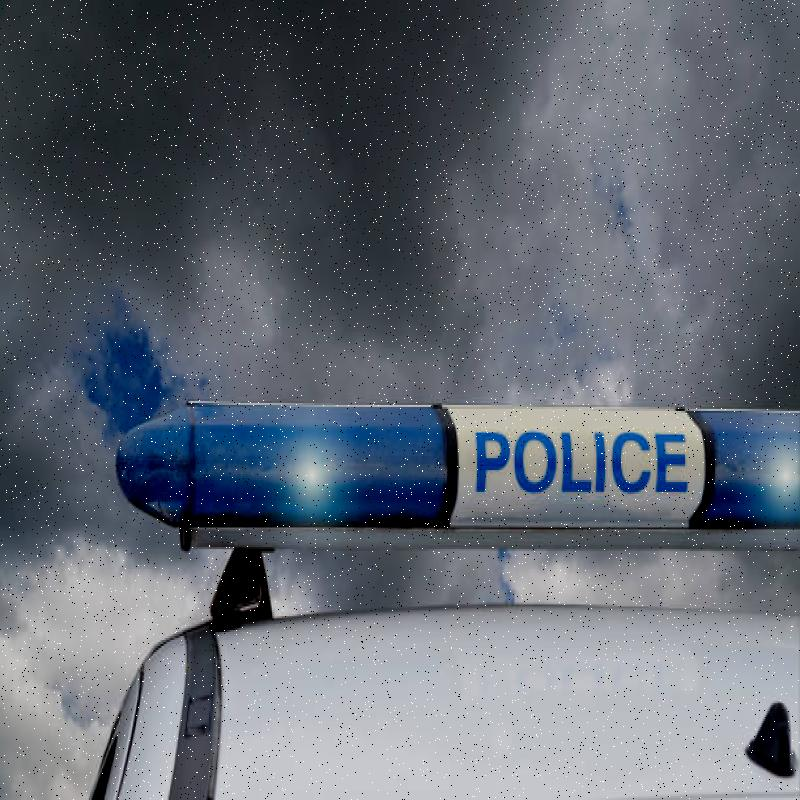AmbulanceSiren: (61, 340, 800, 658)
